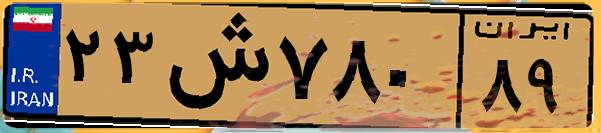0: (385, 28, 445, 110)
2: (57, 26, 110, 100)
3: (110, 28, 158, 98)
7: (270, 28, 330, 110)
8: (330, 28, 385, 110), (475, 38, 525, 113)
9: (525, 38, 570, 115)
ش: (158, 12, 270, 120)
